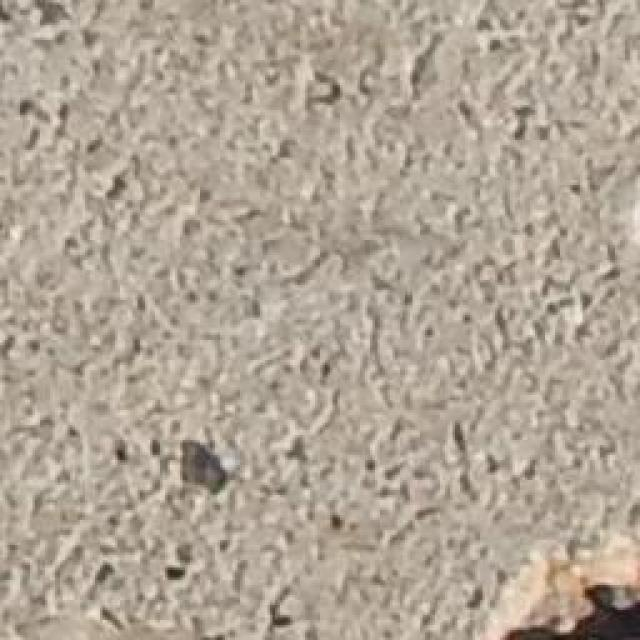concrete-crack: (489, 577, 640, 640), (174, 438, 233, 493)
